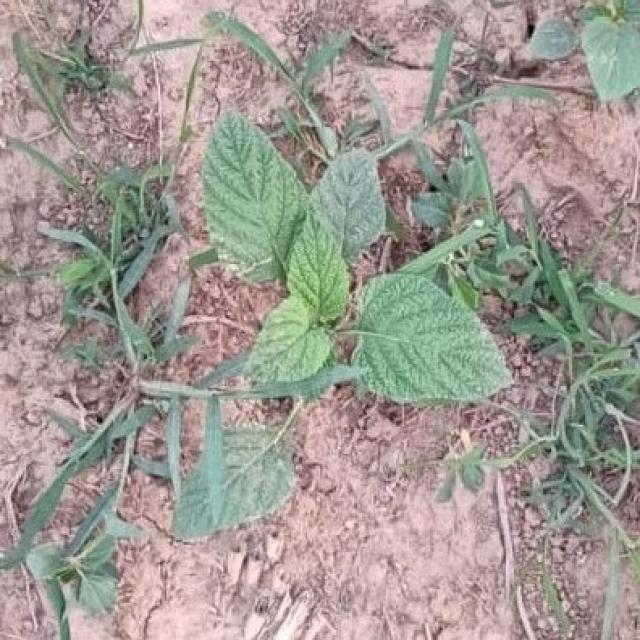weed: (142, 15, 640, 539), (533, 0, 640, 100)
